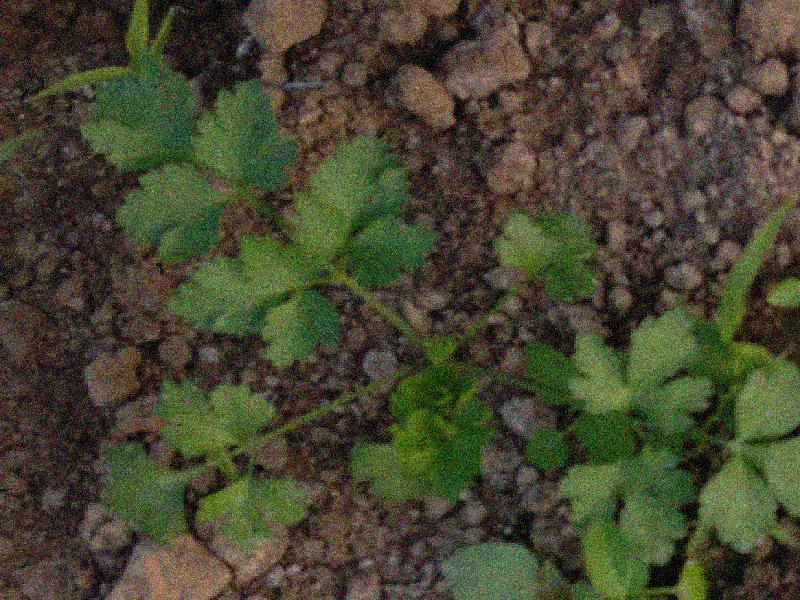radish: (125, 110, 587, 504)
